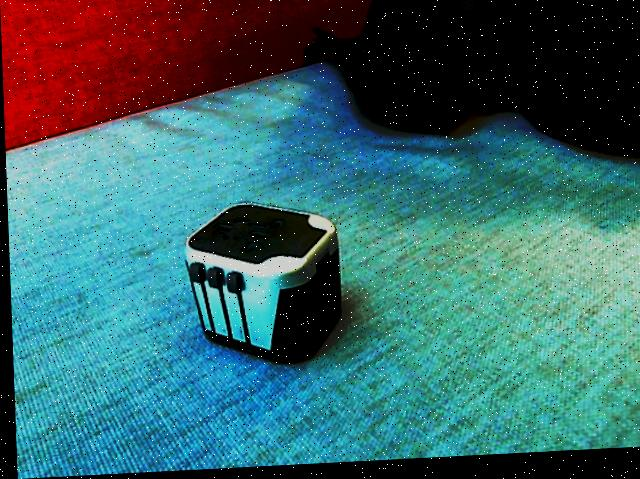adapter: (180, 201, 341, 371)
